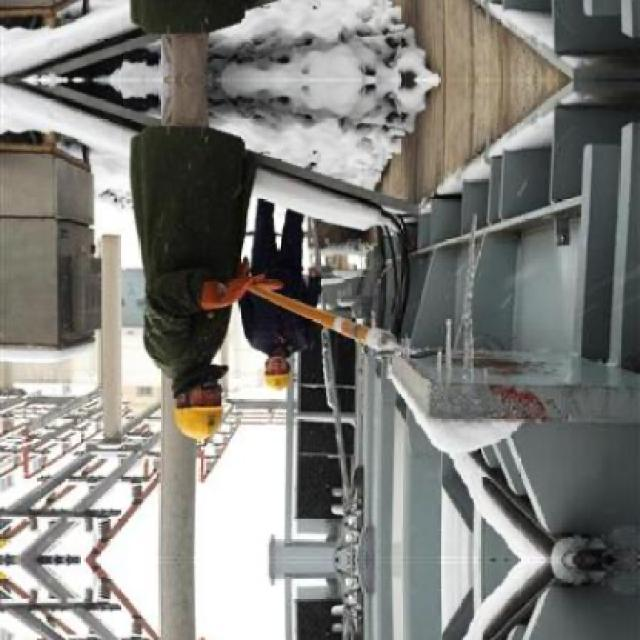con casco: (160, 343, 266, 441), (222, 358, 286, 407)
